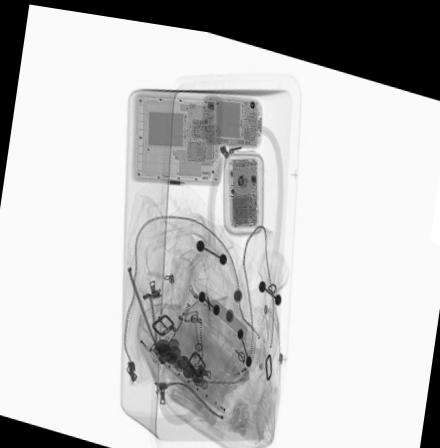Lighter: (215, 356, 250, 394)
